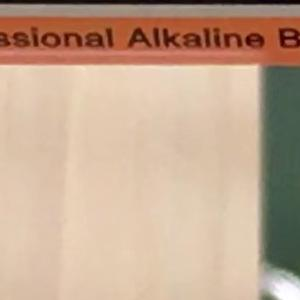keyword: (118, 18, 170, 57)
